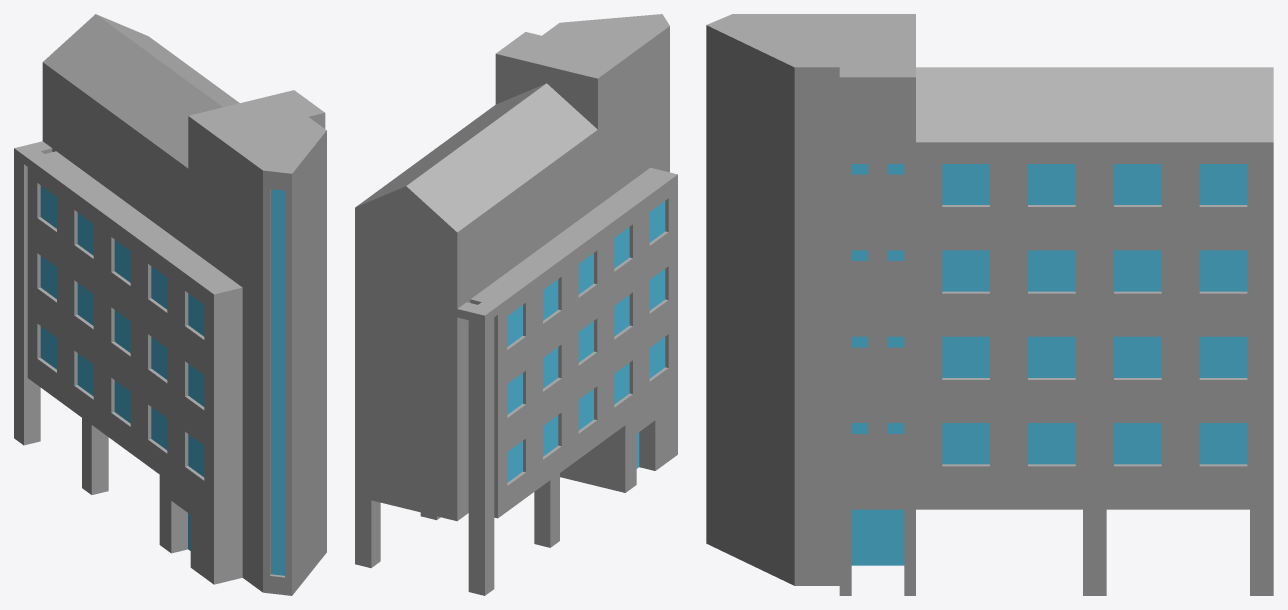
The model's file is HanCheon.glb.
The picture shows the model from 3 angles, left to right: view 1: azimuth 30°, elevation 25°; view 2: azimuth 150°, elevation 25°; view 3: azimuth 270°, elevation 25°; orthographic projection. The views are drawn at different scales.
Parts seen in each view (by area): view 1: Main, Window; view 2: Main, Window; view 3: Main, Window.
Part boxes in pixels (bbox=[...]): Main: bbox=[14, 14, 326, 595]; Window: bbox=[40, 185, 284, 575]; Main: bbox=[355, 14, 677, 595]; Window: bbox=[507, 201, 665, 482]; Main: bbox=[706, 14, 1273, 595]; Window: bbox=[851, 164, 1247, 565].
Bounding box in the file's own units: 8 × 24 × 23.8.
